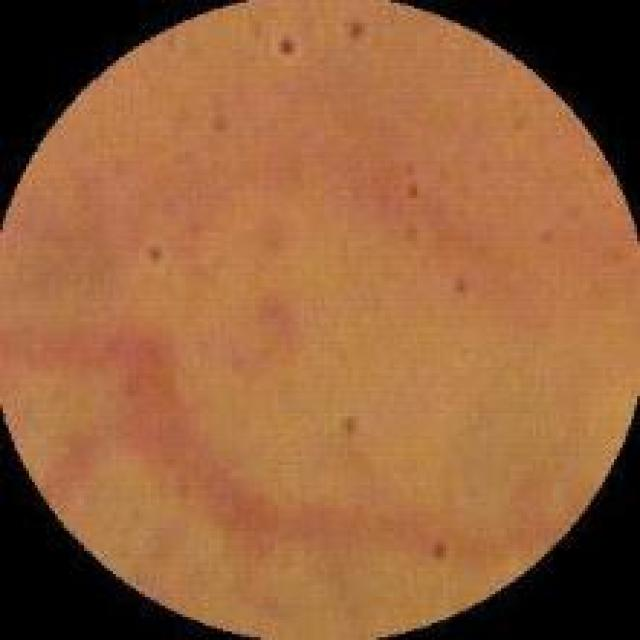blur: (15, 9, 620, 628)
color misalignment: (436, 256, 482, 323), (317, 393, 371, 441), (130, 230, 184, 273), (200, 101, 243, 151), (391, 217, 436, 262), (263, 28, 312, 67), (334, 11, 384, 49), (393, 166, 430, 215), (427, 535, 464, 581)
